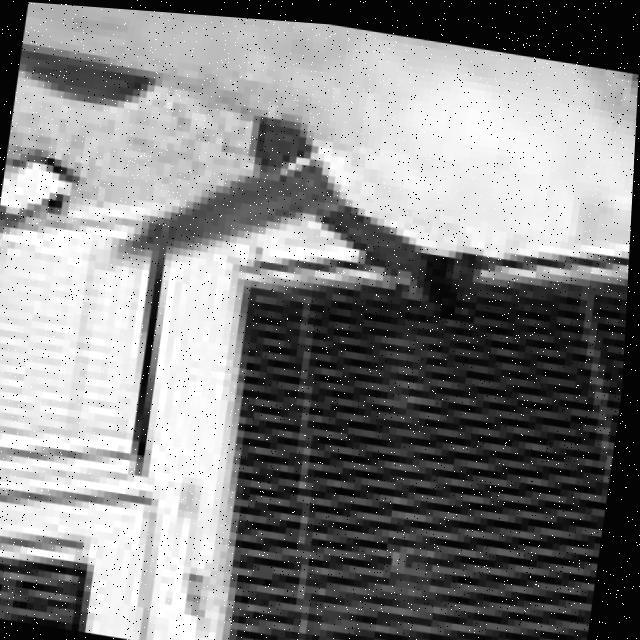knife: (114, 114, 337, 333)
